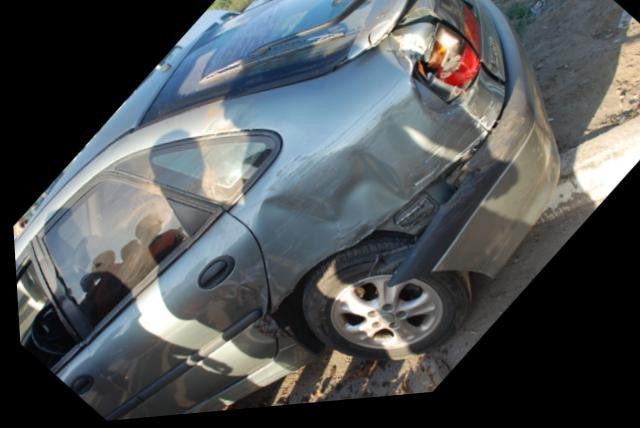dent: (251, 155, 405, 263), (234, 286, 271, 345), (388, 42, 425, 73)
dislocated part: (362, 86, 558, 293)
lamp broken: (415, 37, 481, 106)
scratch: (262, 88, 498, 207), (415, 116, 529, 260), (201, 99, 260, 137)
